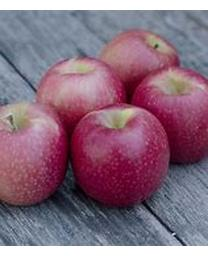apple: (69, 103, 170, 207), (130, 65, 207, 164), (0, 100, 69, 206), (35, 54, 127, 127), (98, 30, 181, 101)
